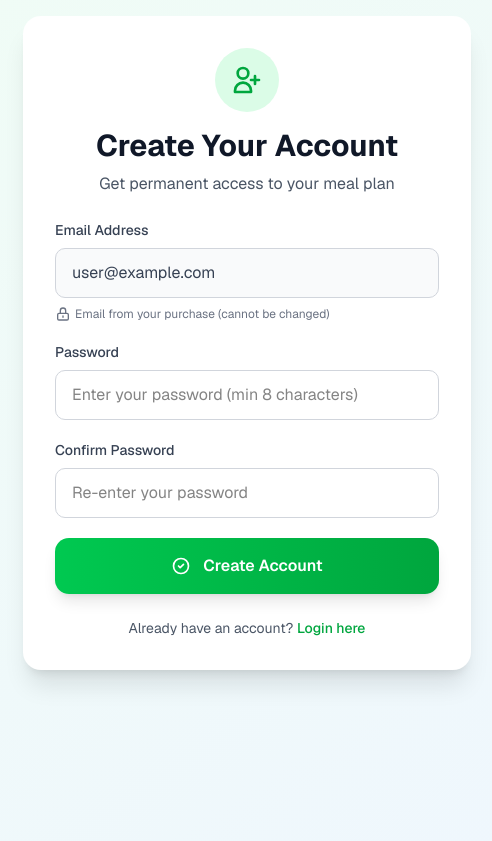
Test: CreateAccountPage › Form Submission › should handle network error
Type "ValidPassword123!" into the password field labelled "Password" at (247, 395), box [55,370,439,420]
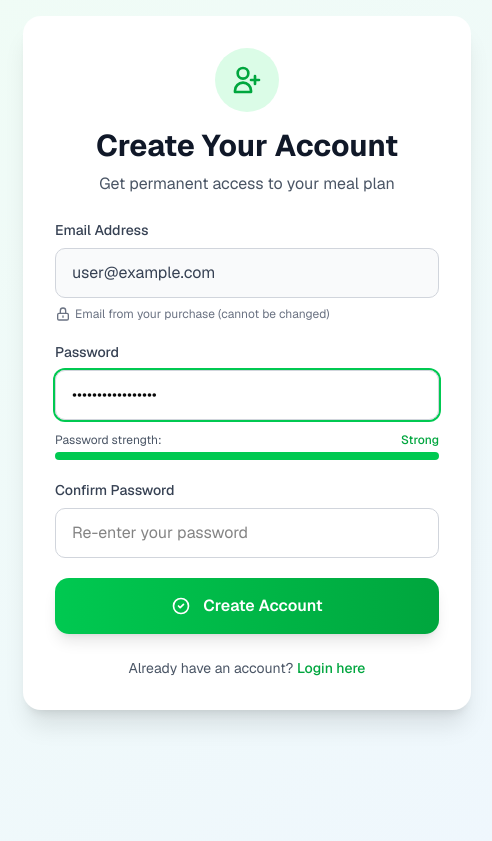
Type "ValidPassword123!" into the password field labelled "Confirm Password" at (247, 533), box [55,508,439,558]
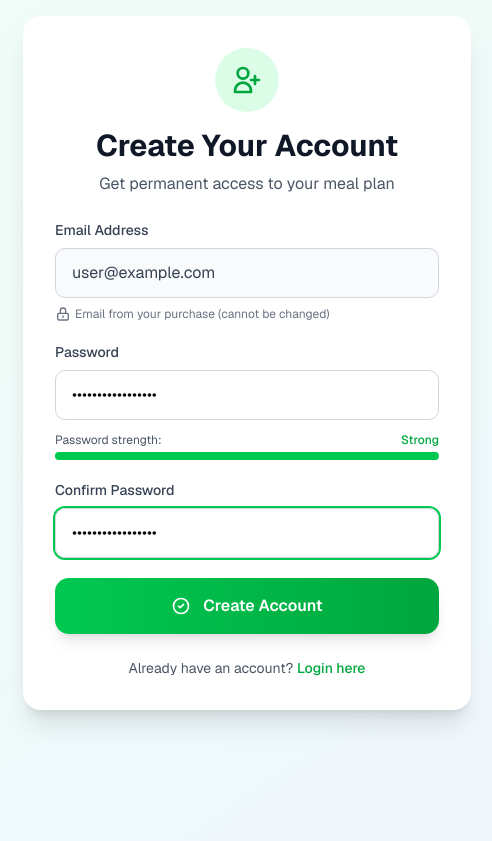
Click the button "Create Account" at (247, 606), box [55,578,439,634]
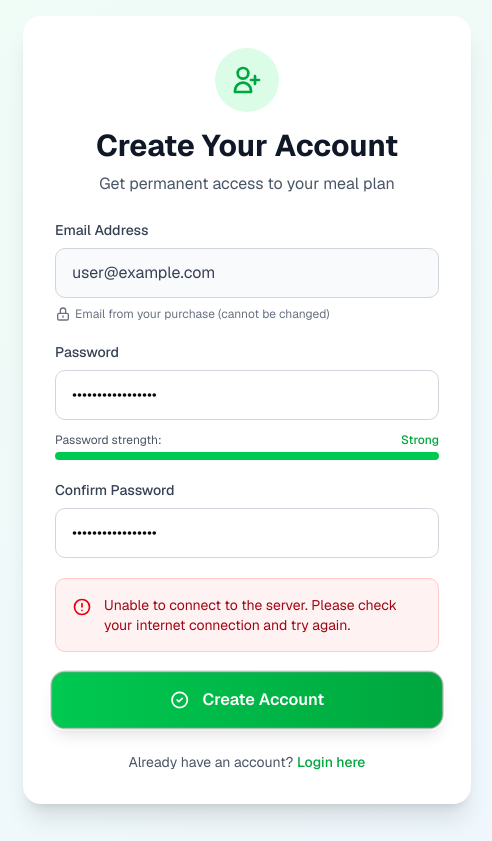
Expected: the text "Unable to connect to the server" is shown, [104,596,397,634]
